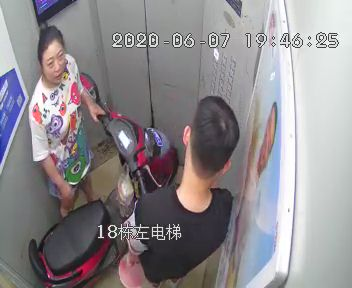Electric-bicycle: (26, 72, 180, 288)
